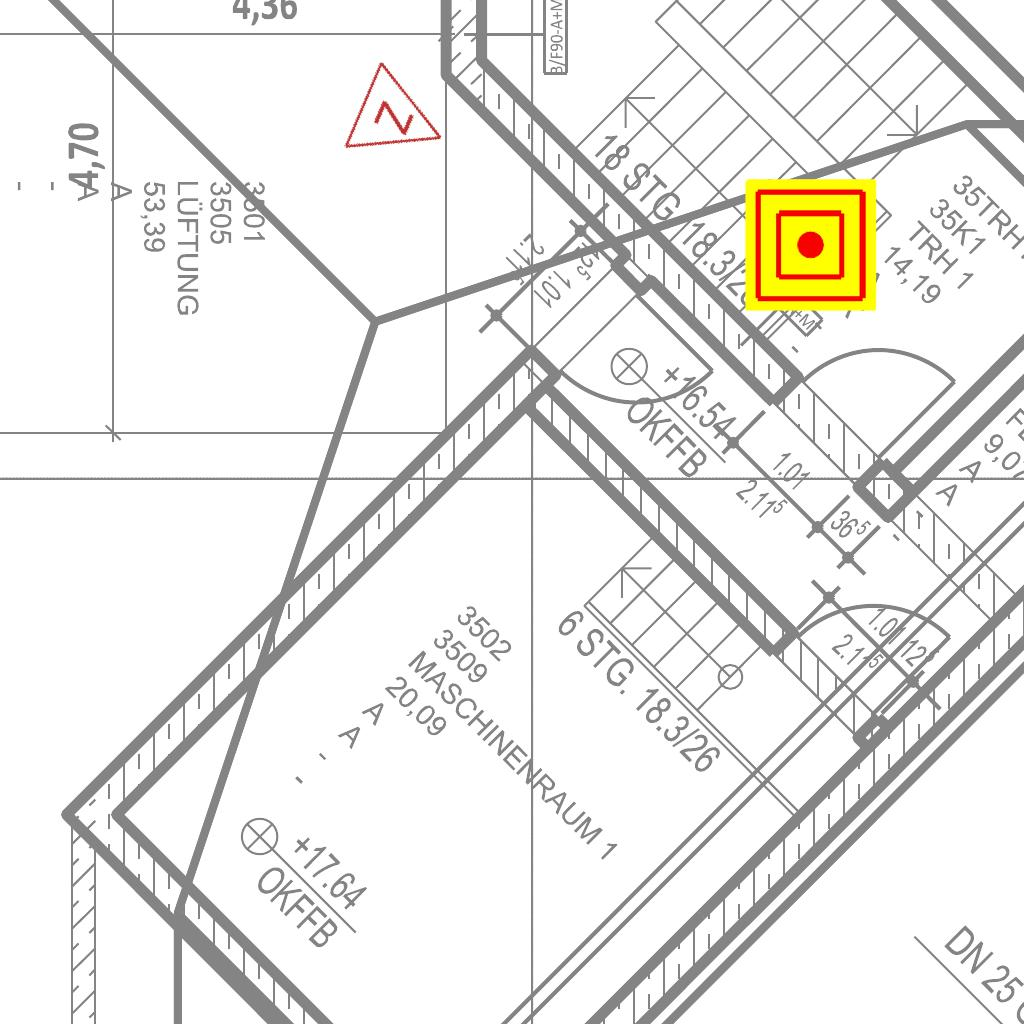NAM-Nichtautomatischer_Melder: (745, 179, 877, 311)
Zimmersignalleuchte: (336, 55, 468, 185)
